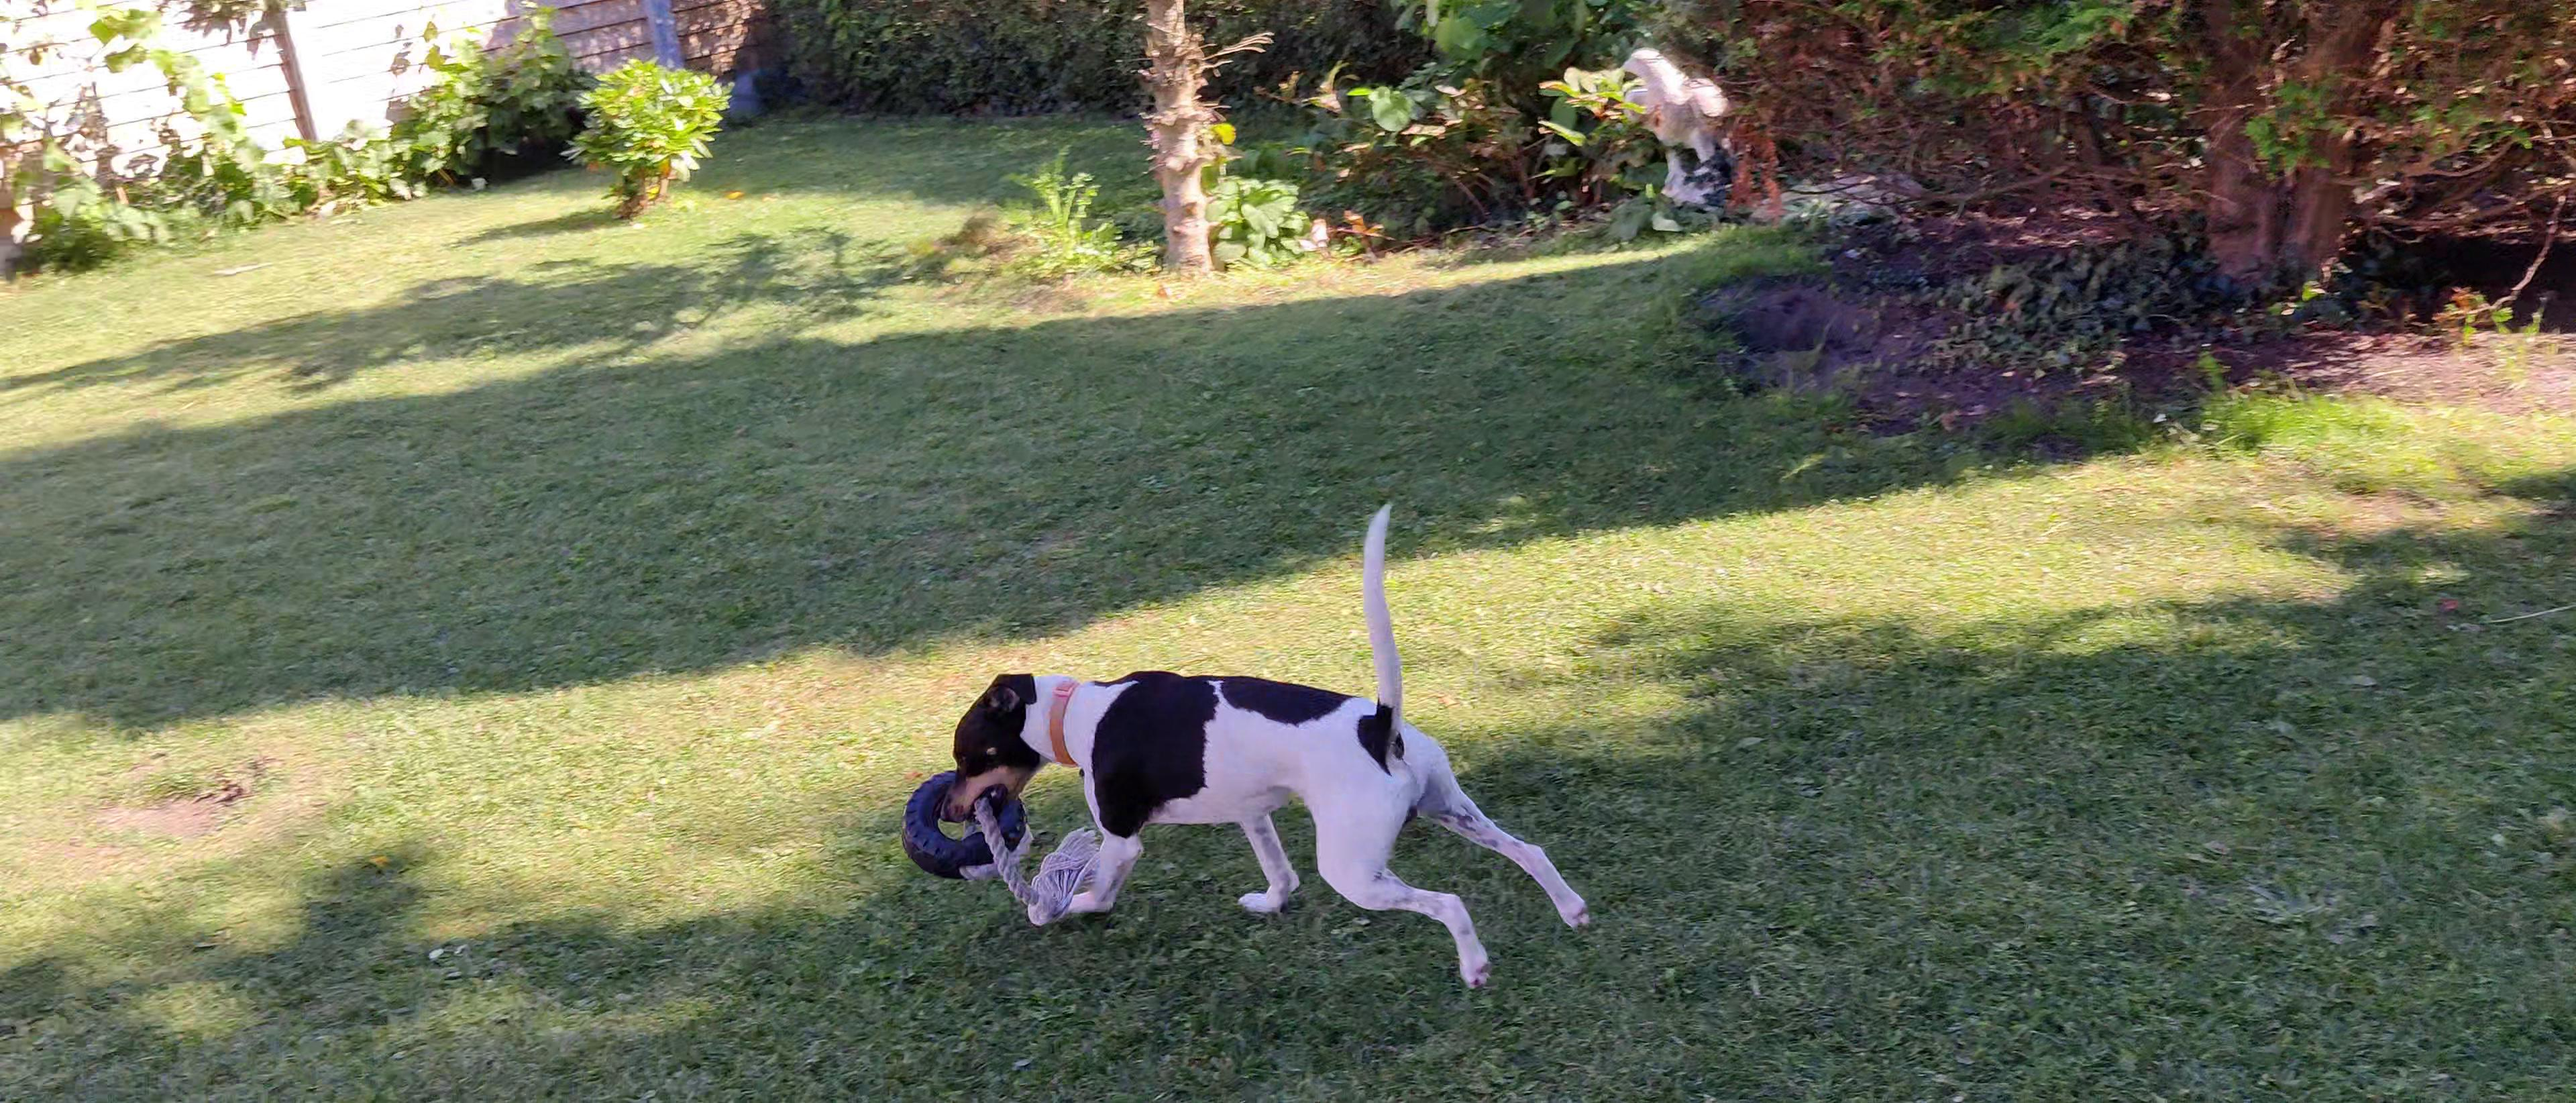Dog: (933, 495, 1605, 999)
